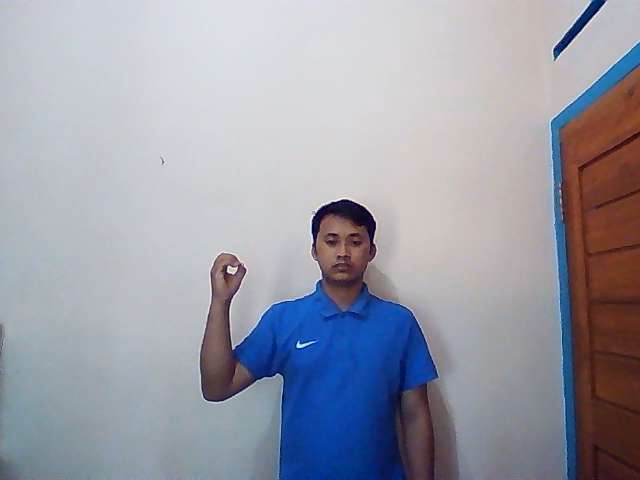O: (208, 250, 247, 297)
